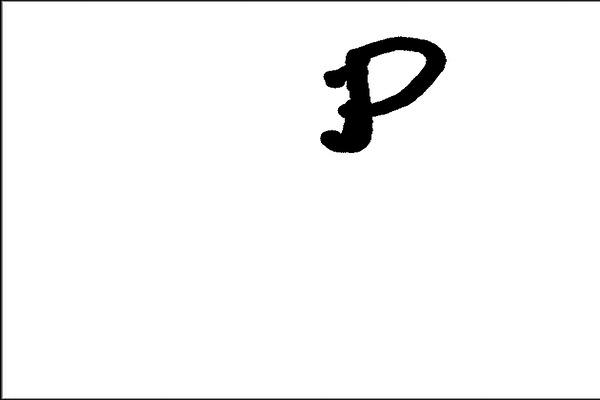P: (308, 21, 453, 165)
